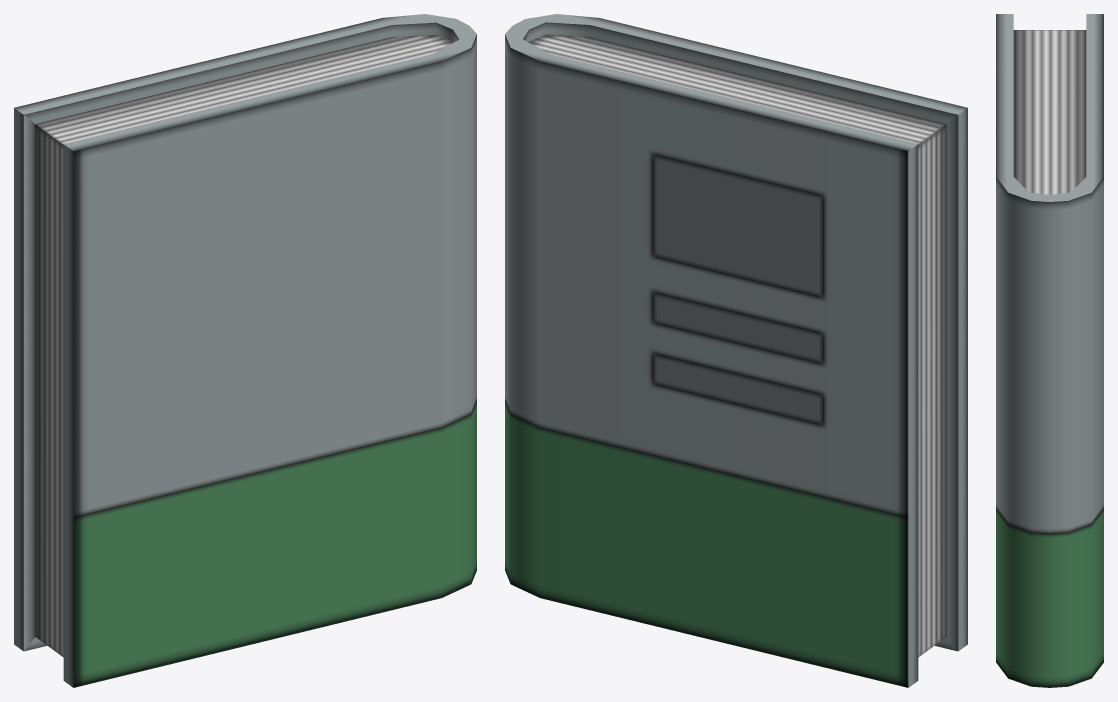
The model's file is book5.fbx.
3 renders of one model, left to right at view 1: azimuth 30°, elevation 25°; view 2: azimuth 150°, elevation 25°; view 3: azimuth 270°, elevation 25°, orthographic. The views are drawn at different scales.
Parts seen in each view (by area): view 1: polySurface208; view 2: polySurface208; view 3: polySurface208.
Boxes of the visible parts, box(x1,y1,x2,y2) form: polySurface208: box(14, 14, 476, 687); polySurface208: box(505, 14, 967, 687); polySurface208: box(996, 14, 1103, 687).
Size of the model in its own units: 0.3366 by 0.4055 by 0.0815.
